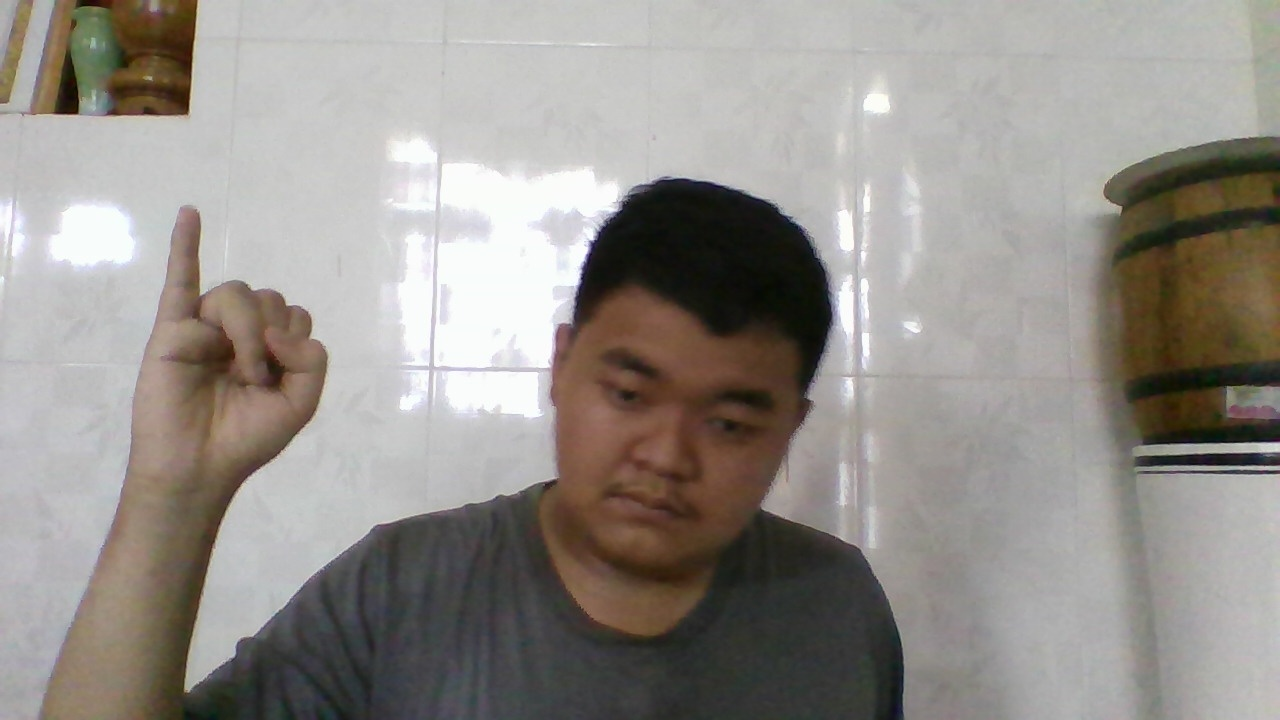I: (158, 203, 334, 490)
